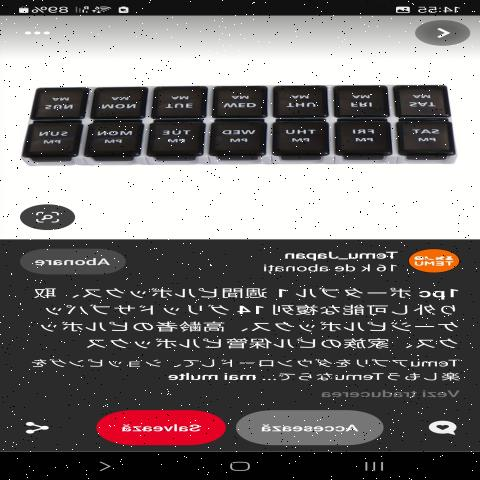Pill-box: (5, 61, 458, 173)
